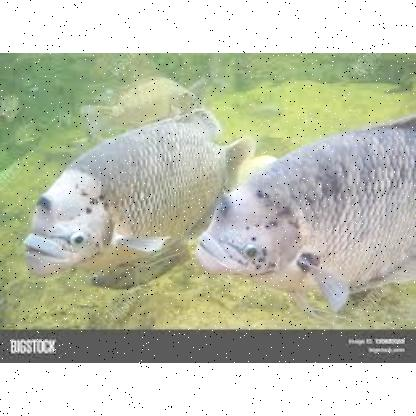gurame: (195, 106, 415, 300), (17, 116, 219, 286)
